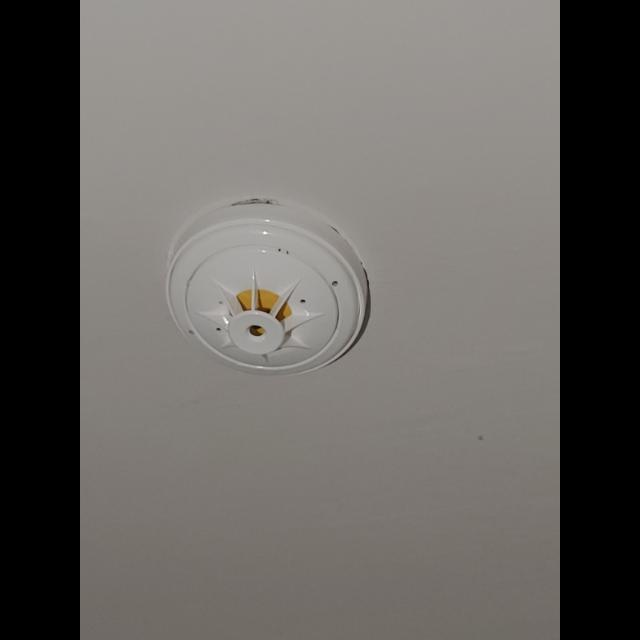Smoke-Detector: (164, 207, 370, 377)
